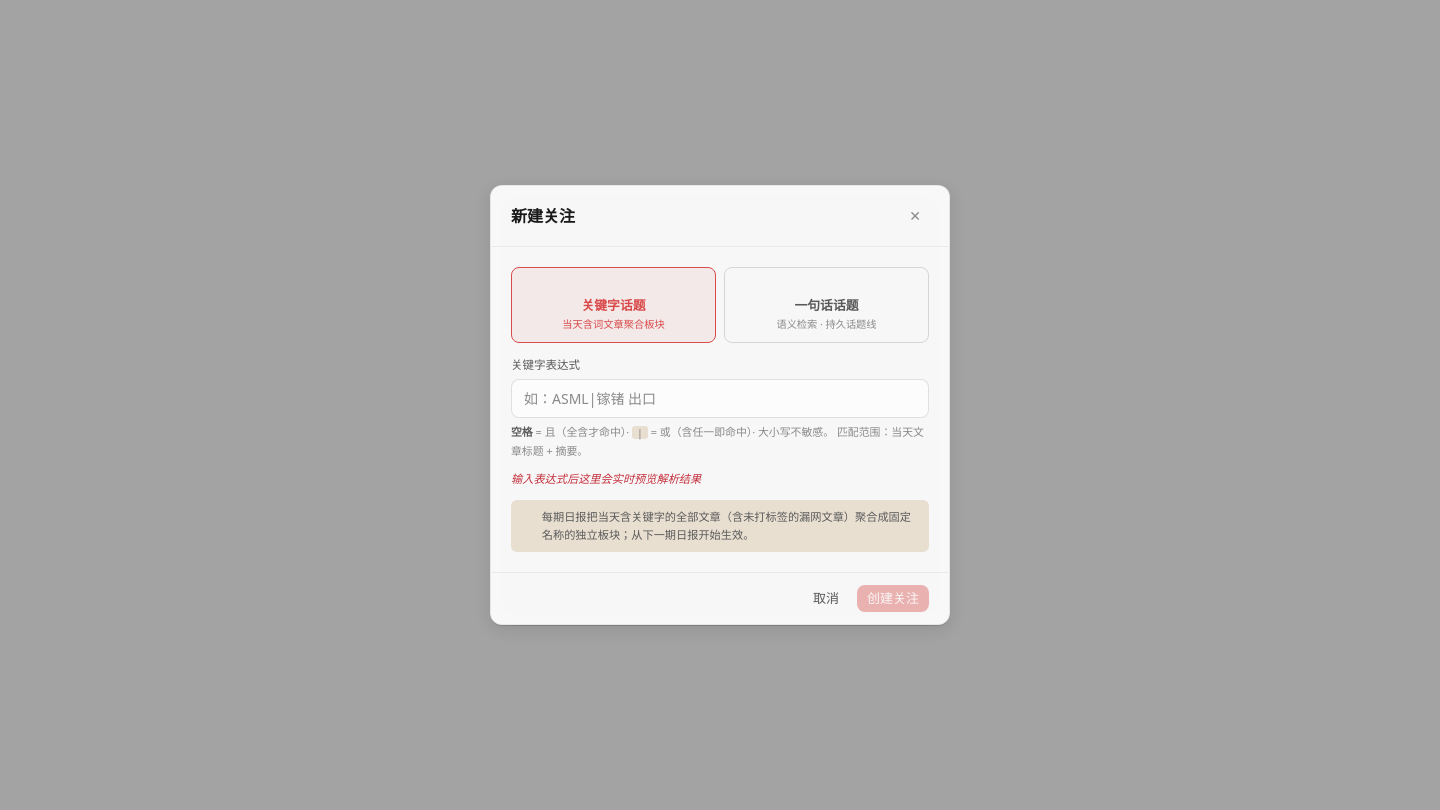
Test: TopicWatchCreateDialog — keyword 解析预览 › 混用表达式：ASML|镓锗 出口 → [ASML|镓锗] × [出口]
In the field with placeholder "如：ASML|镓锗 出口": (720, 398) [511,379,929,418], type "ASML|镓锗 出口"
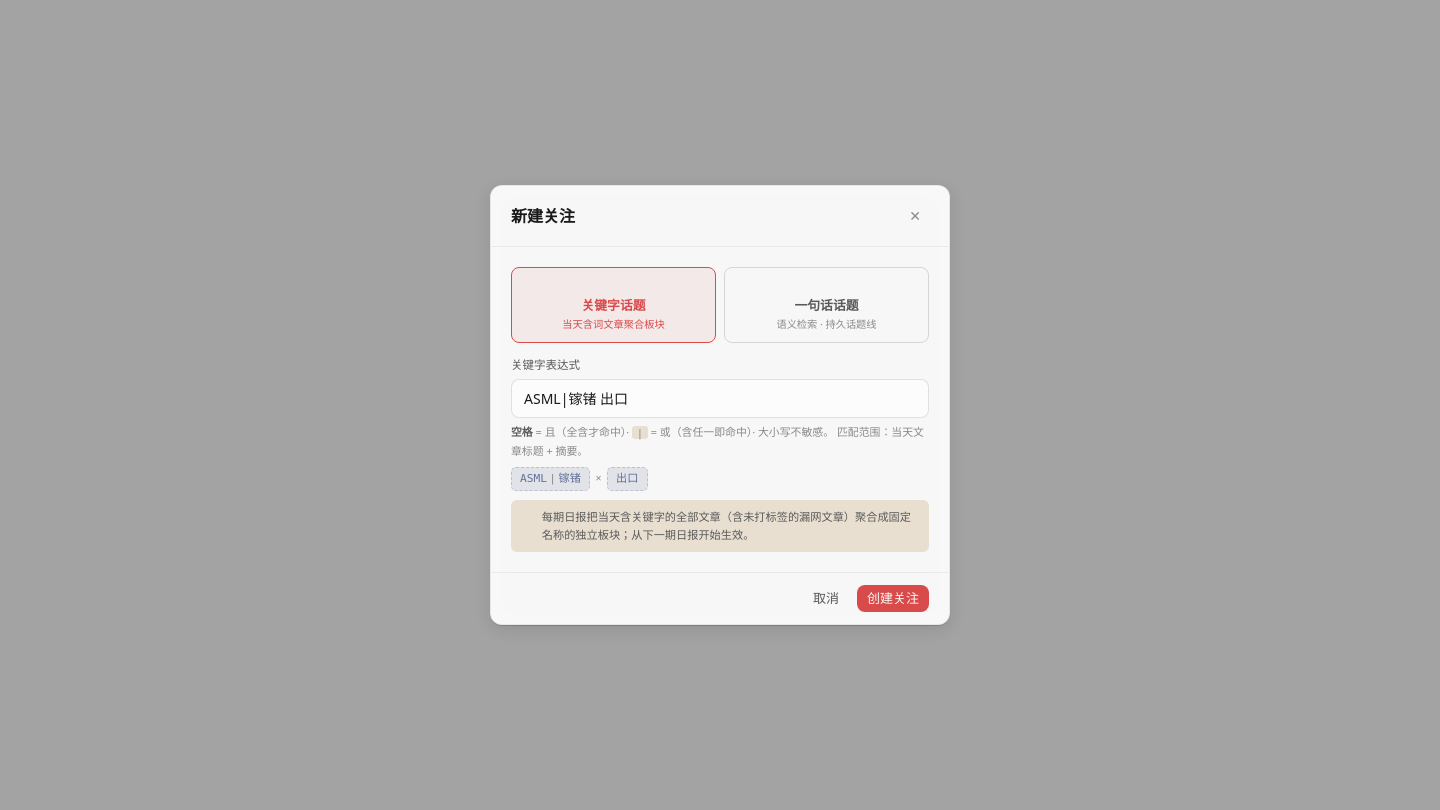
Check: the number of elements with test id "keyword-parse-slot" is 2, box [511,467,590,491]; [607,467,648,491]
Check: the element with test id "keyword-parse-slot" reads "ASML | 镓锗", box [520,472,547,485]
Check: the element with test id "keyword-parse-slot" reads "出口", box [616,472,638,485]
